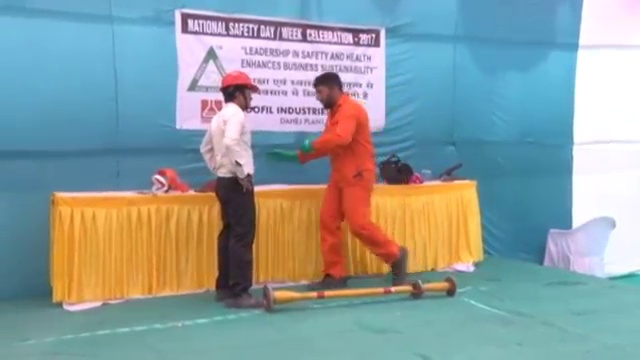helmet: (218, 70, 261, 93)
helmet_off: (314, 71, 344, 109)
helmet_on: (216, 69, 261, 108)
person: (296, 71, 411, 286), (199, 69, 271, 312)
